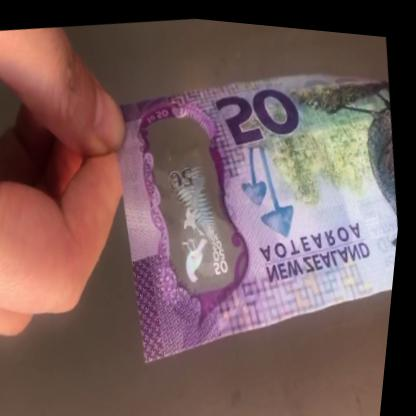50B: (148, 120, 247, 287)
